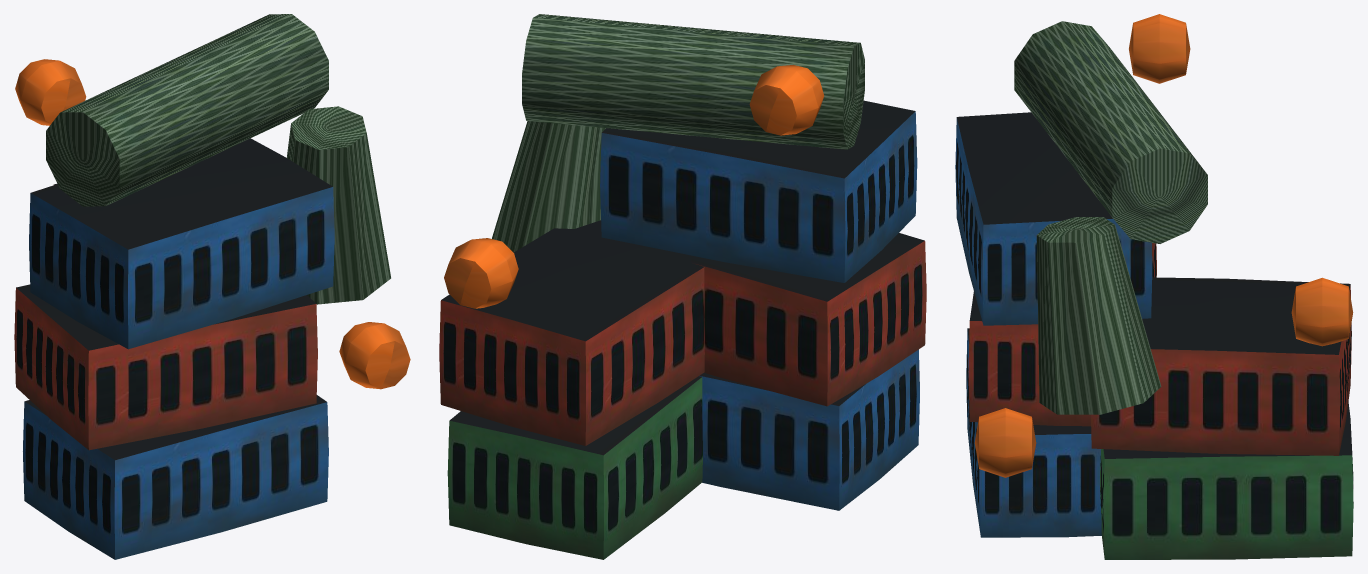
The model's file is prop_soft_fishcrates-v8X3FkX5.glb.
3 views of the same model, side by side, from view 1: azimuth 30°, elevation 25°; view 2: azimuth 150°, elevation 25°; view 3: azimuth 270°, elevation 25° (orthographic). The views are drawn at different scales.
Visible parts, largest first — view 1: prop_soft_fishcrates_body; view 2: prop_soft_fishcrates_body; view 3: prop_soft_fishcrates_body.
Boxes of the visible parts, x1,y1,x2,y2 form: prop_soft_fishcrates_body: (14,14,410,559); prop_soft_fishcrates_body: (439,14,926,559); prop_soft_fishcrates_body: (955,14,1353,559).
Bounding box in the file's own units: 0.9376 × 1.08 × 0.9046.
Materials: 1 (1 with a texture image).
